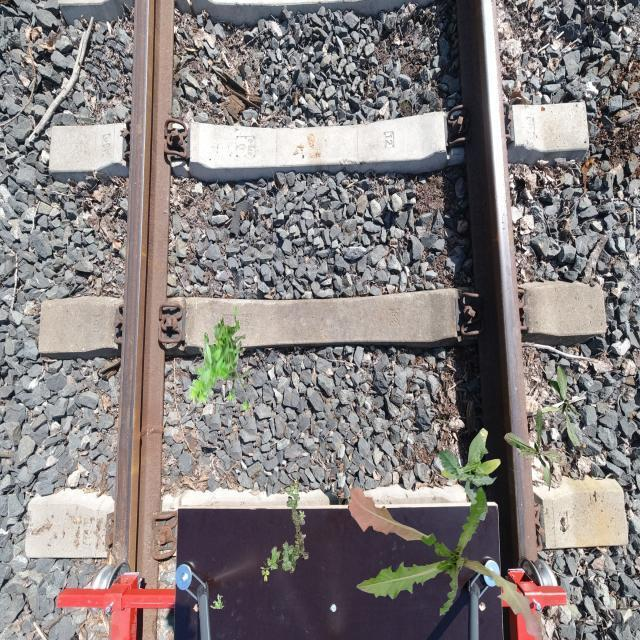Plant: (348, 486, 540, 638), (186, 305, 250, 412), (439, 427, 502, 520), (504, 408, 568, 492), (260, 478, 308, 582), (541, 365, 581, 448), (211, 594, 225, 610)
